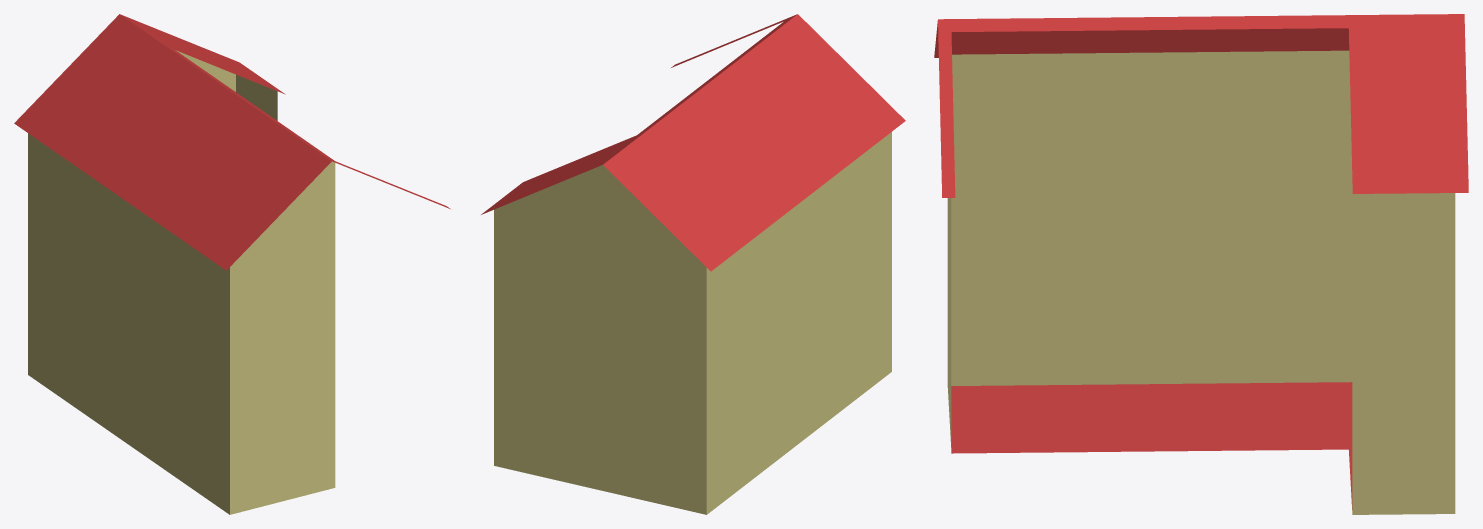
3 renders of one model, left to right at view 1: azimuth 30°, elevation 25°; view 2: azimuth 150°, elevation 25°; view 3: azimuth 270°, elevation 25°, orthographic. The views are drawn at different scales.
Bounding box in the file's own units: 6.67 × 10.11 × 8.94.
